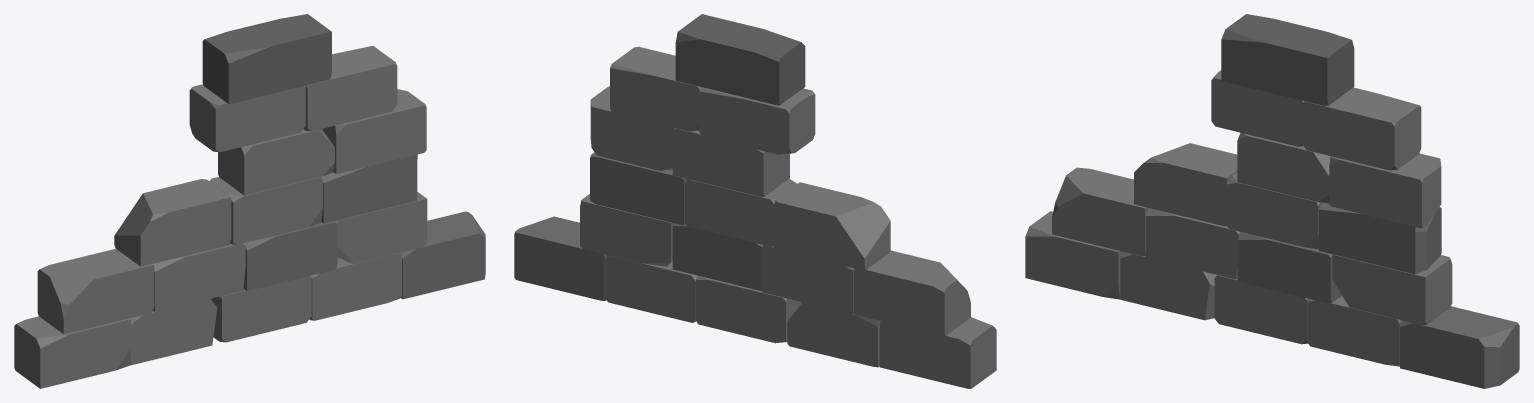
The model's file is Wall_02.fbx.
3 renders of one model, left to right at view 1: azimuth 30°, elevation 25°; view 2: azimuth 150°, elevation 25°; view 3: azimuth 330°, elevation 25°, orthographic. The views are drawn at different scales.
Visible parts, largest first — view 1: Wall_02_LOD0; view 2: Wall_02_LOD0; view 3: Wall_02_LOD0.
Boxes of the visible parts, x1,y1,x2,y2 form: Wall_02_LOD0: (14, 14, 485, 388); Wall_02_LOD0: (514, 14, 996, 388); Wall_02_LOD0: (1025, 14, 1519, 388).
Size of what is drawn, in the model's own units: 3.7 by 2.22 by 0.4084.
